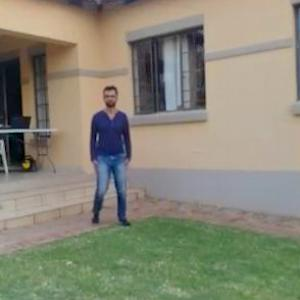follow: (88, 77, 134, 236)
